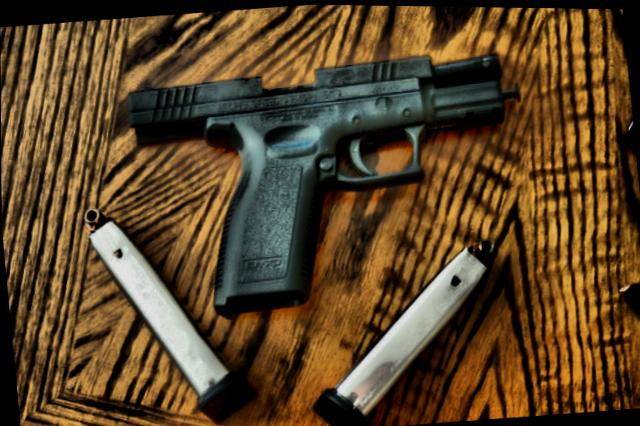pistol: (119, 41, 542, 329)
